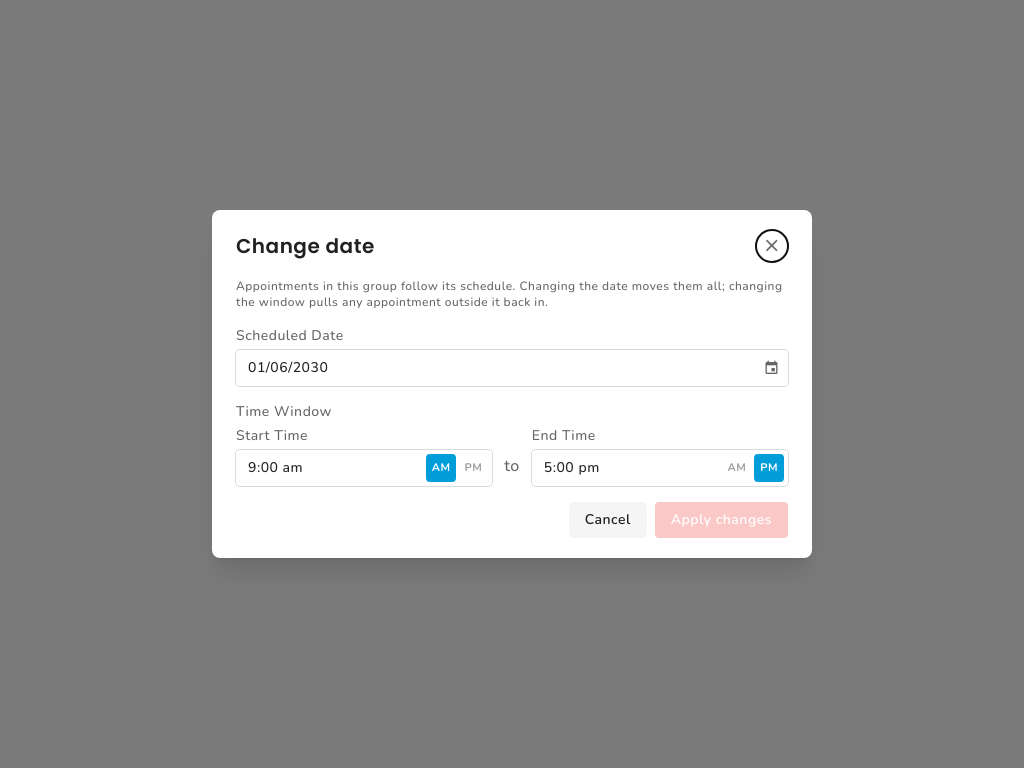
RescheduleGroupModal › tenant confirmations › blocks Apply until the operator picks a strategy
This screenshot has width=1024, height=768.
Replace the text in the field named "Scheduled date" with "2030-07-20" at (498, 368), box [236,350,760,386]
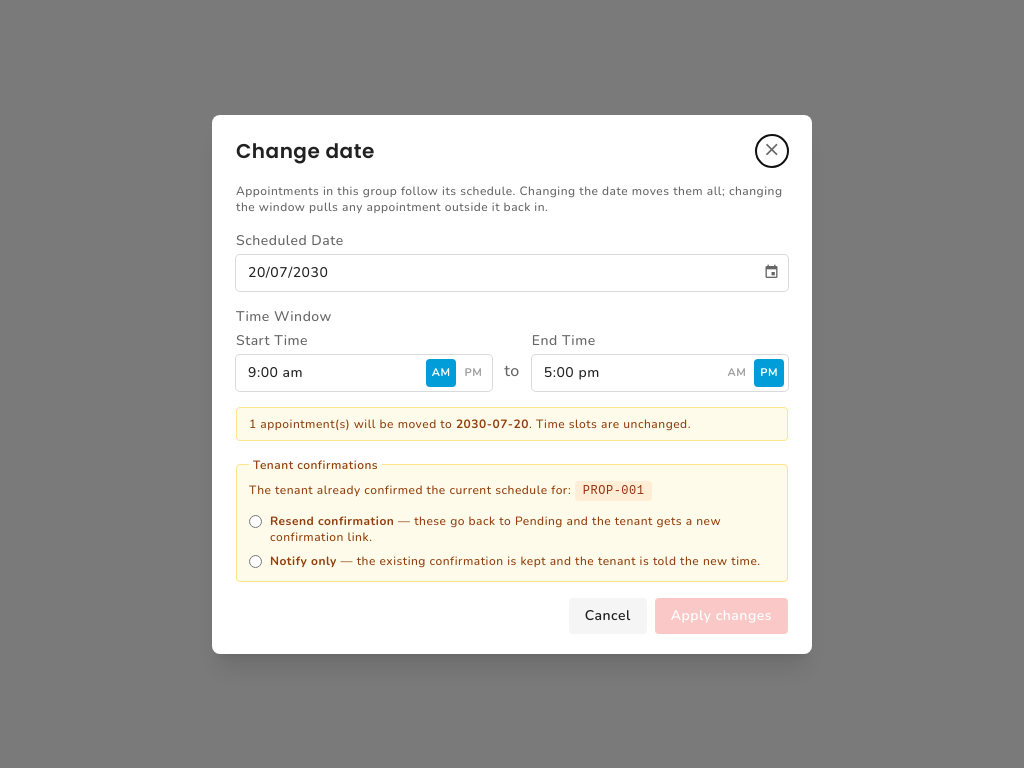
Expected: the button "Apply changes" is disabled, [655,598,788,634]
Expected: the element with test id "reschedule-group-confirmation-choice" is shown, [236,456,788,582]
